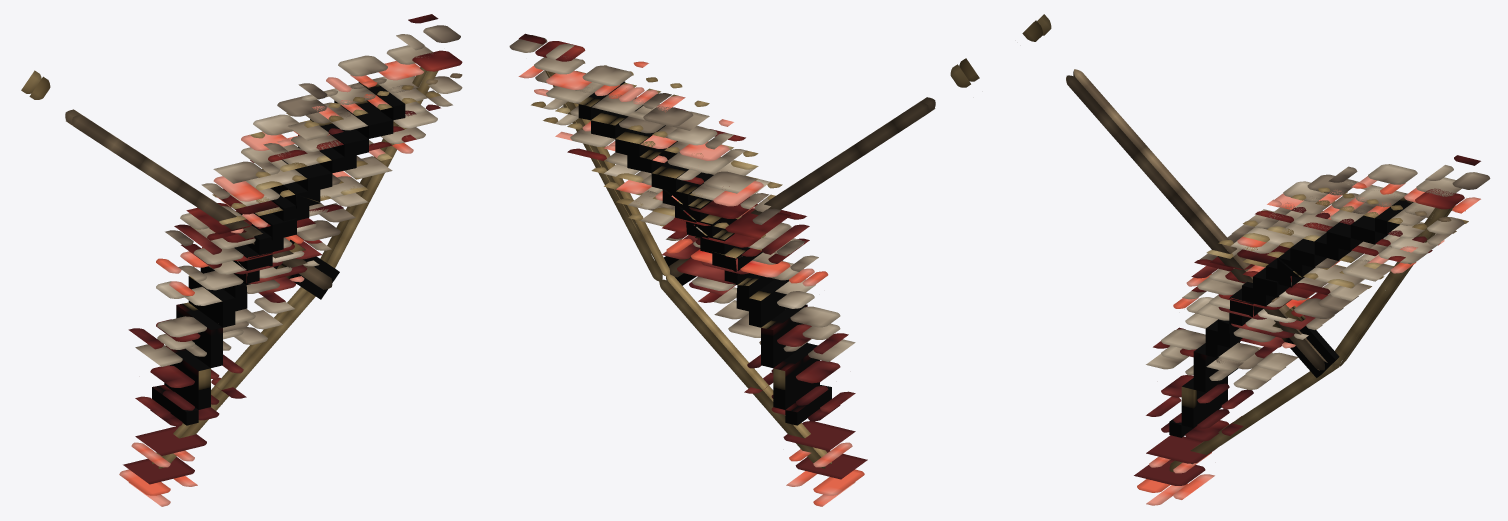
File: tendon_bow_pulling_0.obj
3 renders of one model, left to right at view 1: azimuth 30°, elevation 25°; view 2: azimuth 150°, elevation 25°; view 3: azimuth 330°, elevation 25°, orthographic.
Parts seen in each view (by area): view 1: lit, fire; view 2: lit, fire; view 3: lit, fire.
Boxes of the visible parts, left/top/right/bottom form: lit: left=21, top=14, right=462, bottom=506; fire: left=152, top=82, right=405, bottom=425; lit: left=509, top=33, right=979, bottom=506; fire: left=578, top=81, right=831, bottom=425; lit: left=1022, top=14, right=1490, bottom=505; fire: left=1169, top=197, right=1413, bottom=437.
Bounding box in the file's own units: 1.16 × 1.12 × 0.1814.
